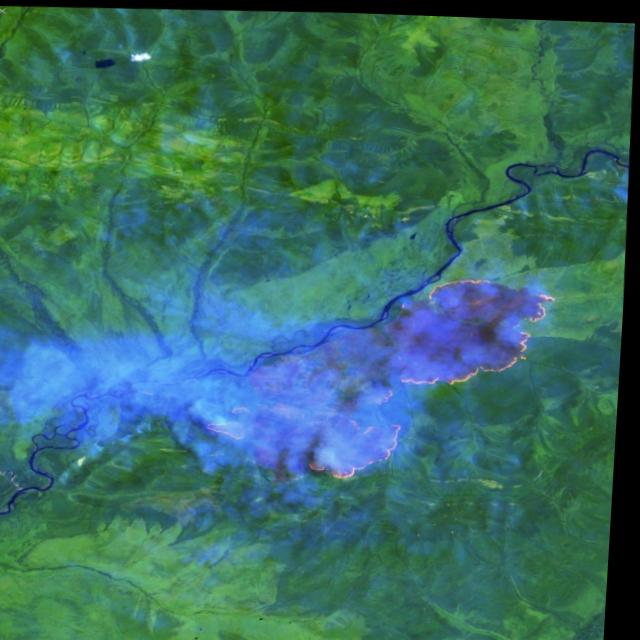fire: (304, 266, 566, 484)
